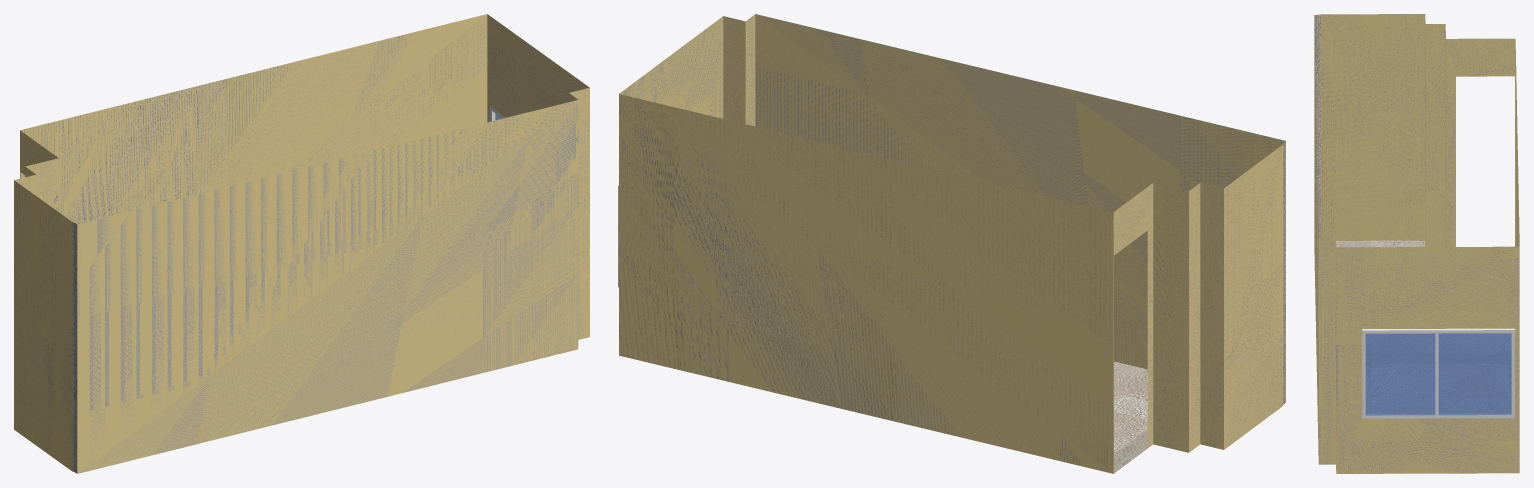
Rendered from DES006.obj.
3 renders of one model, left to right at view 1: azimuth 30°, elevation 25°; view 2: azimuth 150°, elevation 25°; view 3: azimuth 270°, elevation 25°, orthographic. The views are drawn at different scales.
Parts seen in each view (by area): view 1: Mesh6 DES006 Model; view 2: Mesh6 DES006 Model; view 3: Mesh6 DES006 Model, Mesh1 ventana2_1 DES006 Model.
Part boxes in pixels (left/top/right/bottom): Mesh6 DES006 Model: left=14, top=14, right=589, bottom=473; Mesh6 DES006 Model: left=619, top=14, right=1285, bottom=473; Mesh6 DES006 Model: left=1314, top=14, right=1519, bottom=473; Mesh1 ventana2_1 DES006 Model: left=1362, top=328, right=1514, bottom=418.
Bounding box in the file's own units: 8 × 3.6 × 2.96.
Materials: 8 (2 with a texture image).
